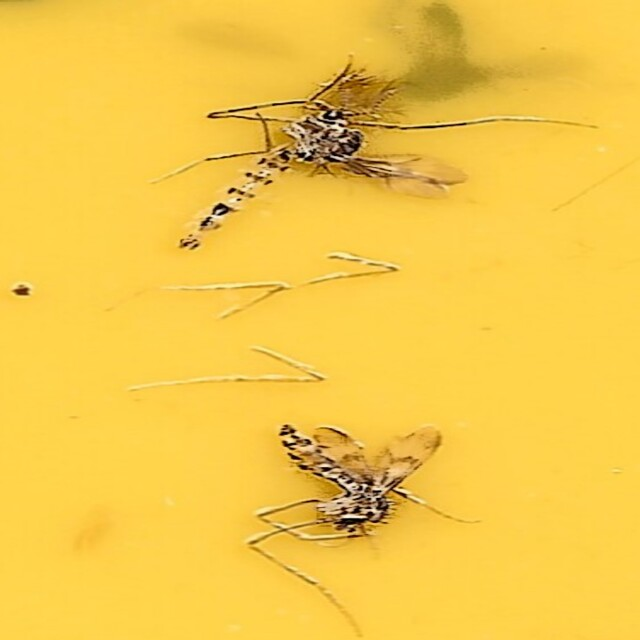Nematocera: (170, 93, 470, 263), (243, 411, 410, 547)
